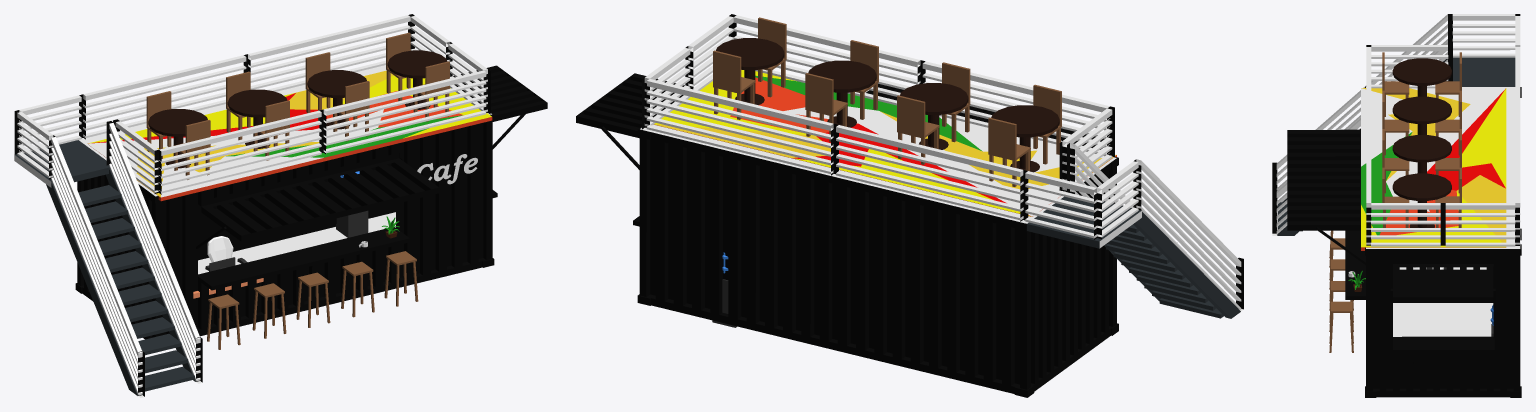
Rendered from cofeeshop.fbx.
3 renders of one model, left to right at view 1: azimuth 30°, elevation 25°; view 2: azimuth 150°, elevation 25°; view 3: azimuth 270°, elevation 25°, orthographic. The views are drawn at different scales.
Parts seen in each view (by area): view 1: uploads_files_3285656_buildings, picture_A, drinking_fountain, chair_B__2_, Text; view 2: uploads_files_3285656_buildings, picture_A; view 3: uploads_files_3285656_buildings, picture_A.
Boxes of the visible parts, x1,y1,x2,y2 form: uploads_files_3285656_buildings: [14, 14, 547, 397]; picture_A: [87, 70, 492, 201]; drinking_fountain: [336, 171, 368, 237]; chair_B__2_: [205, 236, 247, 271]; Text: [417, 154, 477, 184]; uploads_files_3285656_buildings: [576, 14, 1243, 397]; picture_A: [653, 70, 1116, 216]; uploads_files_3285656_buildings: [1272, 14, 1521, 397]; picture_A: [1361, 88, 1506, 250].
Size of the model in its own units: 843 by 360 by 395.
